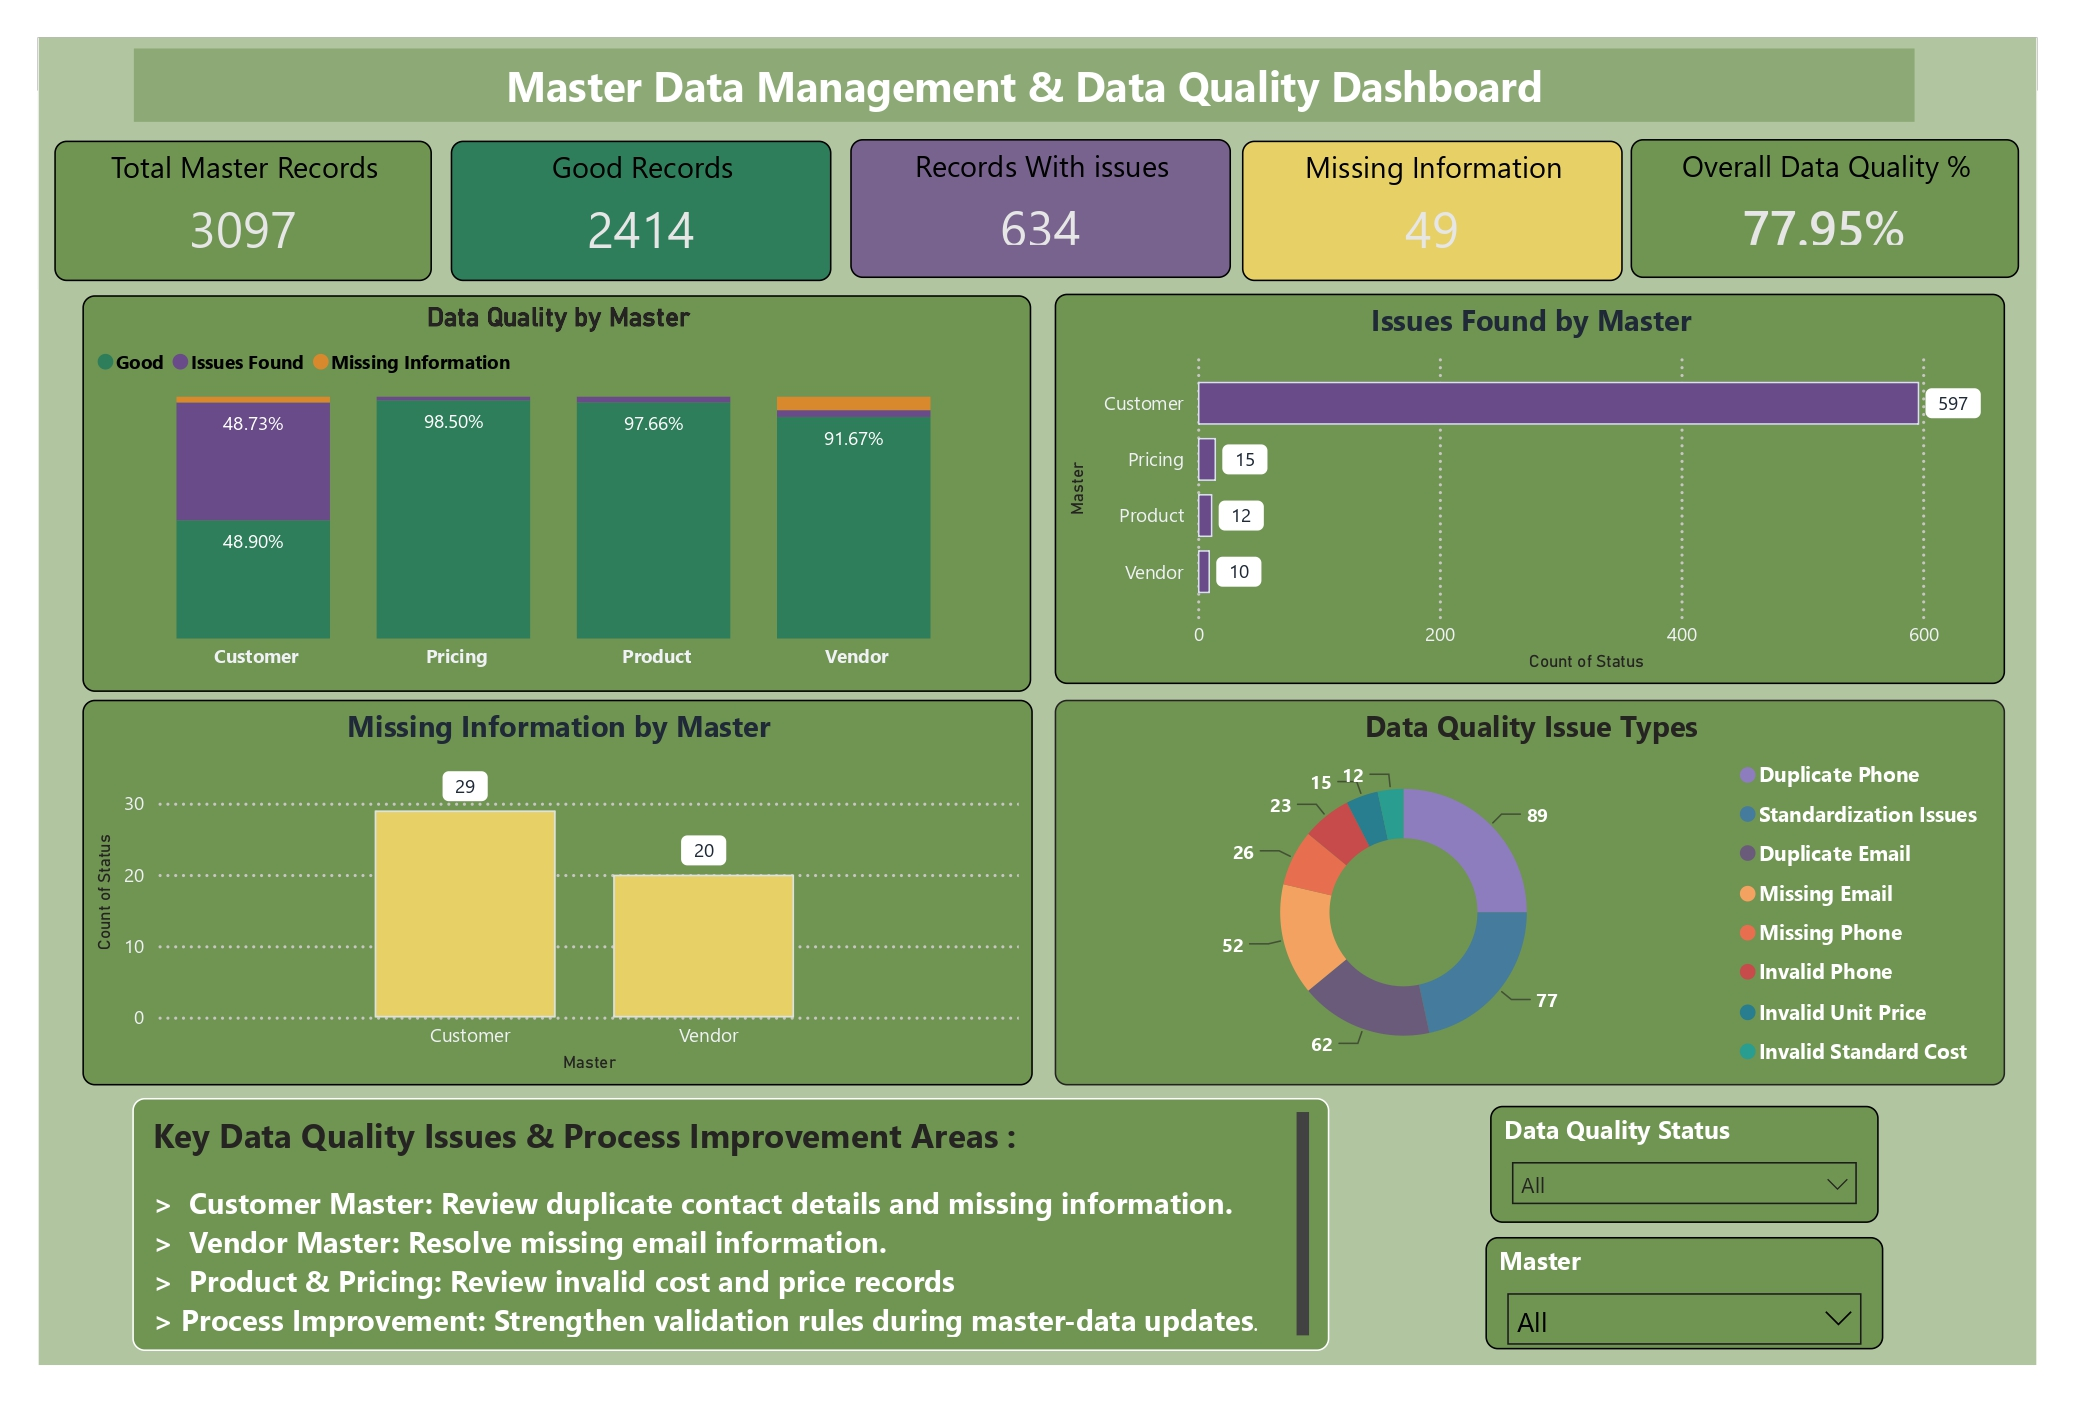

Layout of this report page (visuals, bound fields, positions):
{"tool":"powerbi","page":{"name":"Page 1","canvas":[1280,850],"ordinal":0},"visuals":[{"type":"textbox","box":[60.8,7.2,1141.5,46.4],"z":0},{"type":"cardVisual","title":"Total Master Records","fields":{"Data":["Customer_Master_Cleaned.Total Master Records"]},"box":[10.3,66.1,242,89.6],"z":1000},{"type":"cardVisual","title":"Records With issues","fields":{"Data":["Customer_Master_Cleaned.Records with Issues"]},"box":[520,65,244,89],"z":2000},{"type":"cardVisual","title":"Missing Information","fields":{"Data":["Customer_Master_Cleaned.Missing Information"]},"box":[771,66.1,244,89.6],"z":3000},{"type":"cardVisual","title":"Overall Data Quality %","fields":{"Data":["Customer_Master_Cleaned.Overall Data Quality %"]},"box":[1020,65,249,89],"z":4000},{"type":"cardVisual","title":"Good Records","fields":{"Data":["Customer_Master_Cleaned.Good Records"]},"box":[264.3,66.1,243.8,89.6],"z":5000},{"type":"hundredPercentStackedColumnChart","title":"Data Quality by Master","fields":{"Category":["Master_Quality_Summary.Master"],"Y":["CountNonNull(Master_Quality_Summary.Status)"],"Series":["Master_Quality_Summary.Status"]},"box":[27.9,165,608,254],"z":6000},{"type":"clusteredBarChart","title":"Issues Found by Master","fields":{"Category":["Master_Quality_Summary.Master"],"Y":["CountNonNull(Master_Quality_Summary.Status)"]},"box":[650.6,164.5,609.5,249.7],"z":7000},{"type":"clusteredColumnChart","title":"Missing Information by Master","fields":{"Category":["Master_Quality_Summary.Master"],"Y":["CountNonNull(Master_Quality_Summary.Status)"]},"box":[27.9,424.4,609.5,246.7],"z":8000},{"type":"donutChart","title":"Data Quality Issue Types","fields":{"Category":["Issue_Type_Summary.Issue_Type"],"Y":["Sum(Issue_Type_Summary.Issue_Count)"]},"box":[650.6,424.4,609.5,246.7],"z":9000},{"type":"slicer","title":"Master","fields":{"Values":["Master_Dimension.Master"]},"box":[926.7,768.1,255.5,72],"z":10000},{"type":"slicer","title":"Data Quality Status","fields":{"Values":["Master_Quality_Summary.Status"]},"box":[929.6,684.4,249.7,74.9],"z":11000},{"type":"textbox","box":[60.2,679,766.6,161.5],"z":12000}]}

Visuals, with their boxes in screenshot pixels (x1, y1, x2, y2):
textbox: bbox=[137, 49, 1897, 120]
"Total Master Records" cardVisual: bbox=[59, 140, 432, 278]
"Records With issues" cardVisual: bbox=[845, 138, 1221, 275]
"Missing Information" cardVisual: bbox=[1232, 140, 1608, 278]
"Overall Data Quality %" cardVisual: bbox=[1616, 138, 2000, 275]
"Good Records" cardVisual: bbox=[451, 140, 827, 278]
"Data Quality by Master" hundredPercentStackedColumnChart: bbox=[86, 292, 1024, 684]
"Issues Found by Master" clusteredBarChart: bbox=[1046, 291, 1986, 677]
"Missing Information by Master" clusteredColumnChart: bbox=[86, 692, 1026, 1073]
"Data Quality Issue Types" donutChart: bbox=[1046, 692, 1986, 1073]
"Master" slicer: bbox=[1472, 1222, 1866, 1333]
"Data Quality Status" slicer: bbox=[1477, 1093, 1862, 1209]
textbox: bbox=[136, 1085, 1318, 1334]
